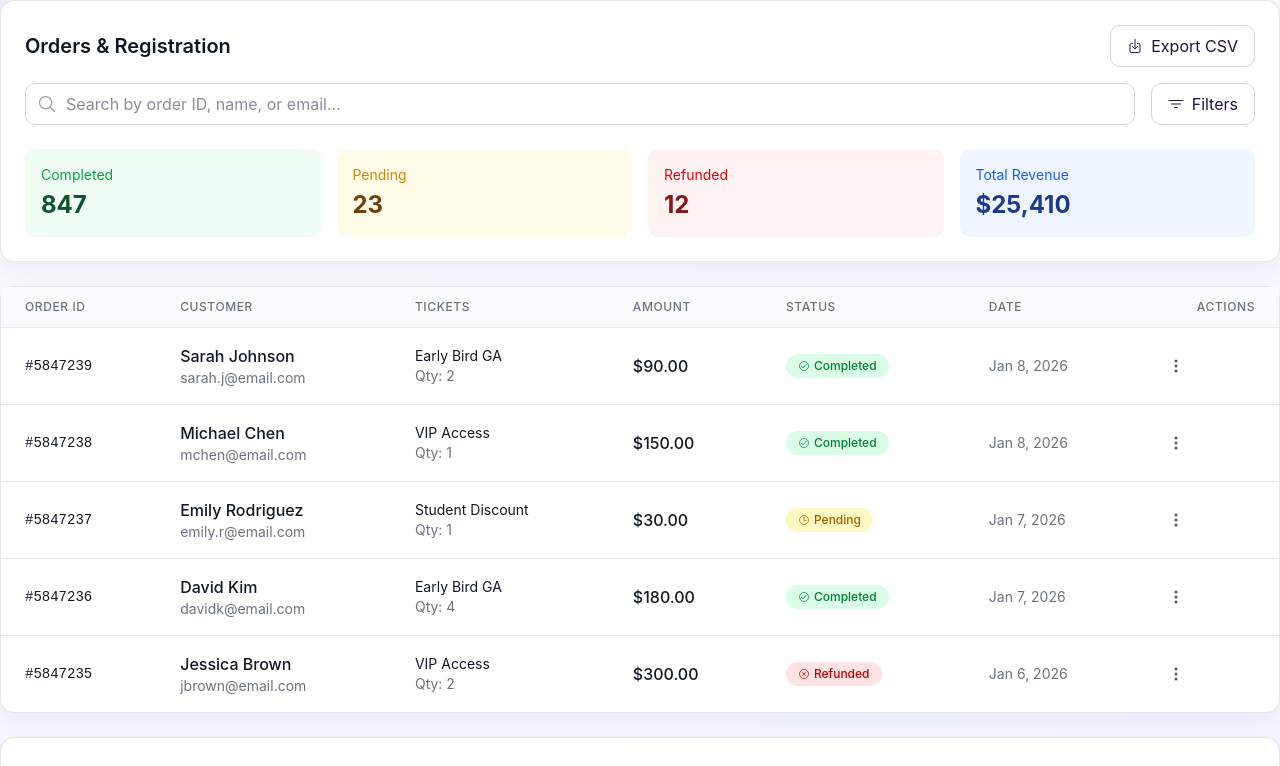
Test: OrdersSection action menu › opens attendee details modal from More details action
This screenshot has width=1280, height=766.
Click the button named "actions for order 5847239". click: (1176, 366)
box: [1160,350,1192,382]
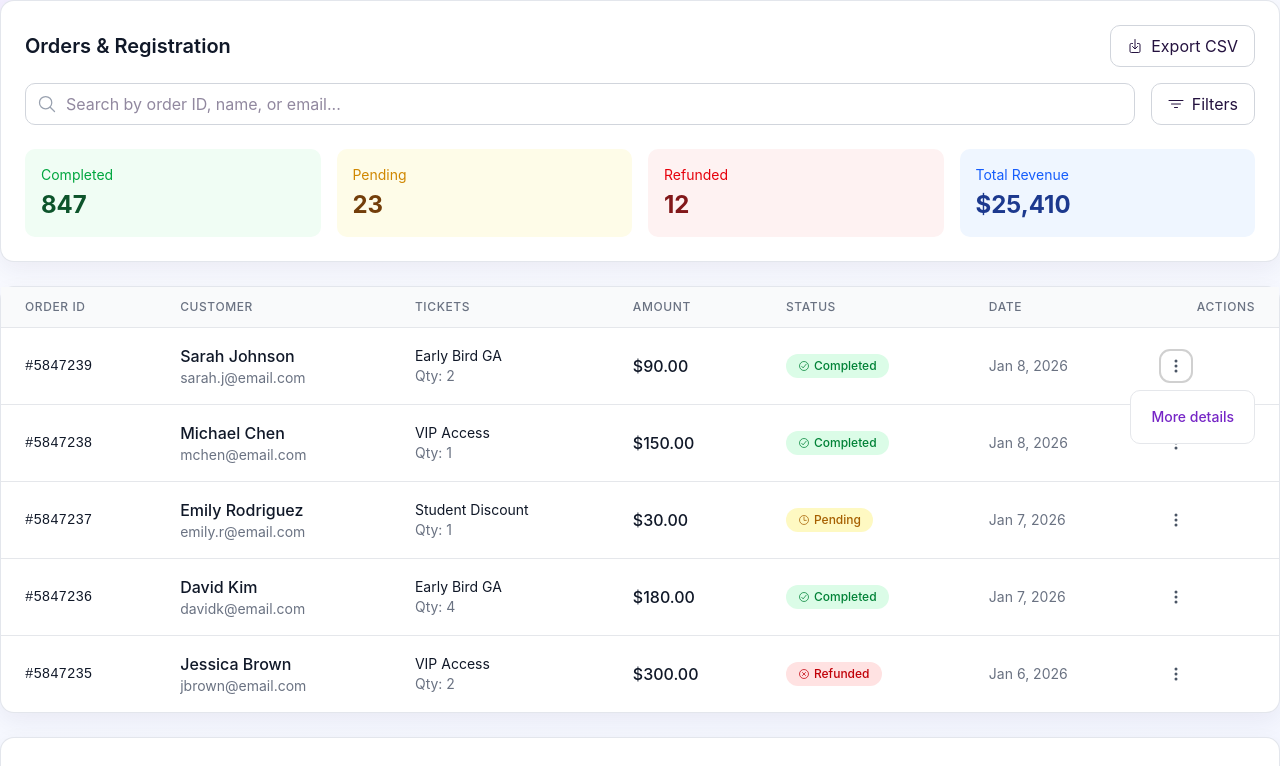
Click the button "More details". click: (1193, 417)
box: [1139,399,1246,435]
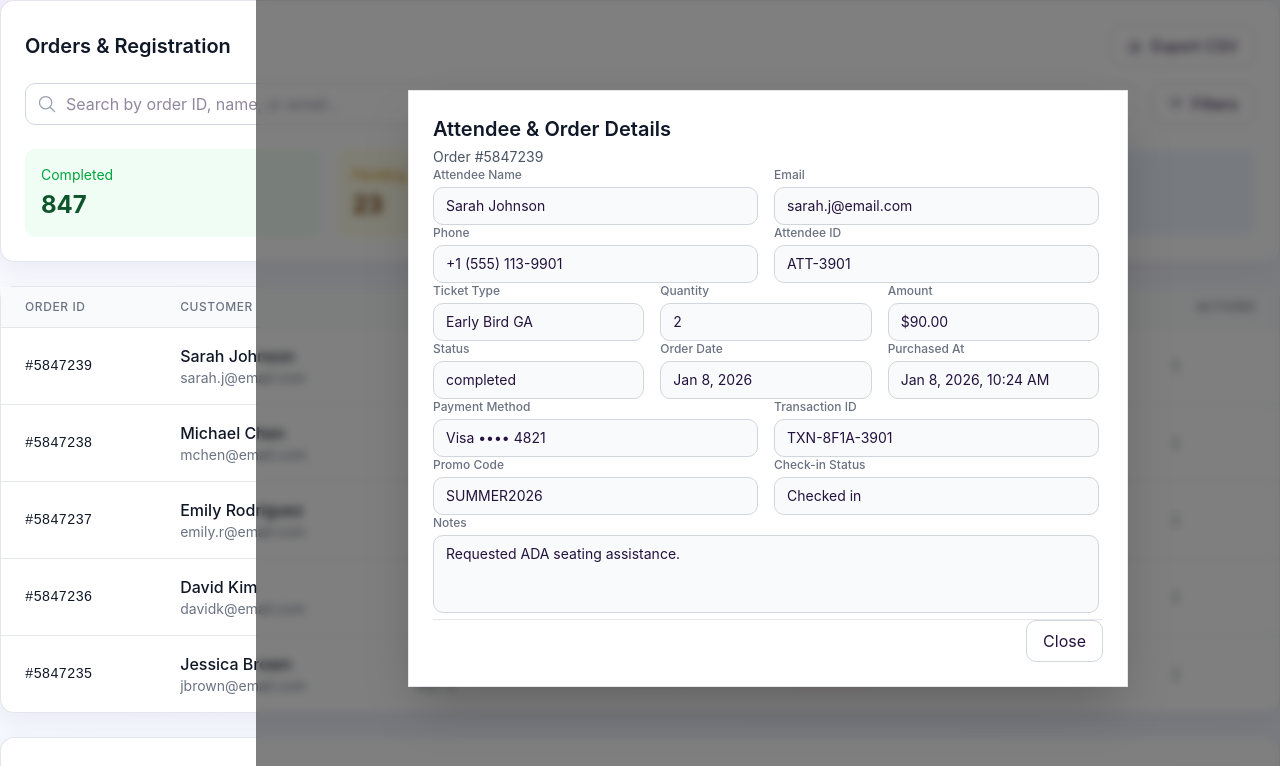
Now the heading "Attendee & Order Details" is shown, box [433,116,671,140]
Now the field showing "Sarah Johnson" below "Attendee Name" is shown, box [433,186,758,224]
Now the field showing "ATT-3901" below "Attendee ID" is shown, box [774,244,1099,282]
